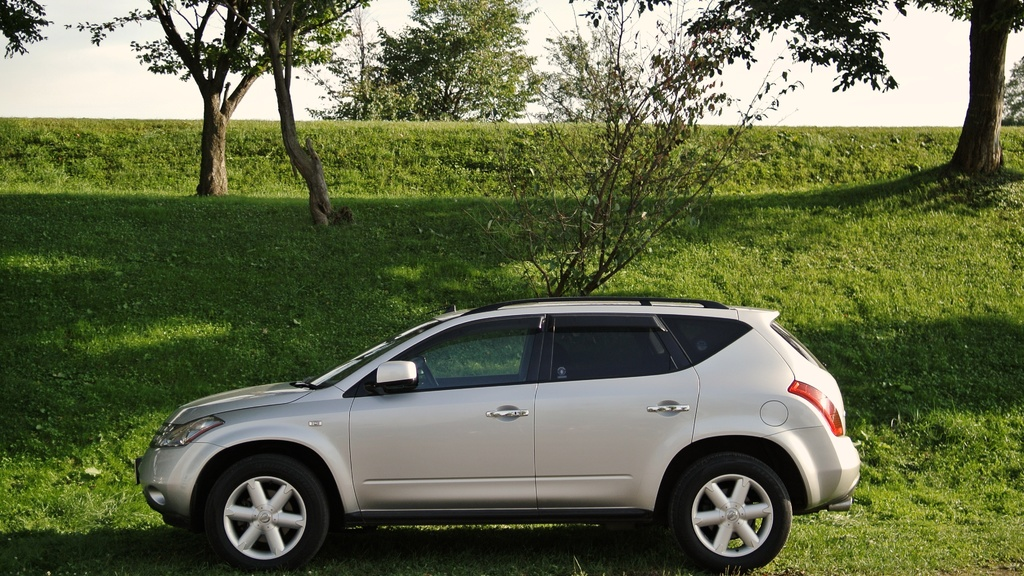Car: (133, 295, 871, 560)
